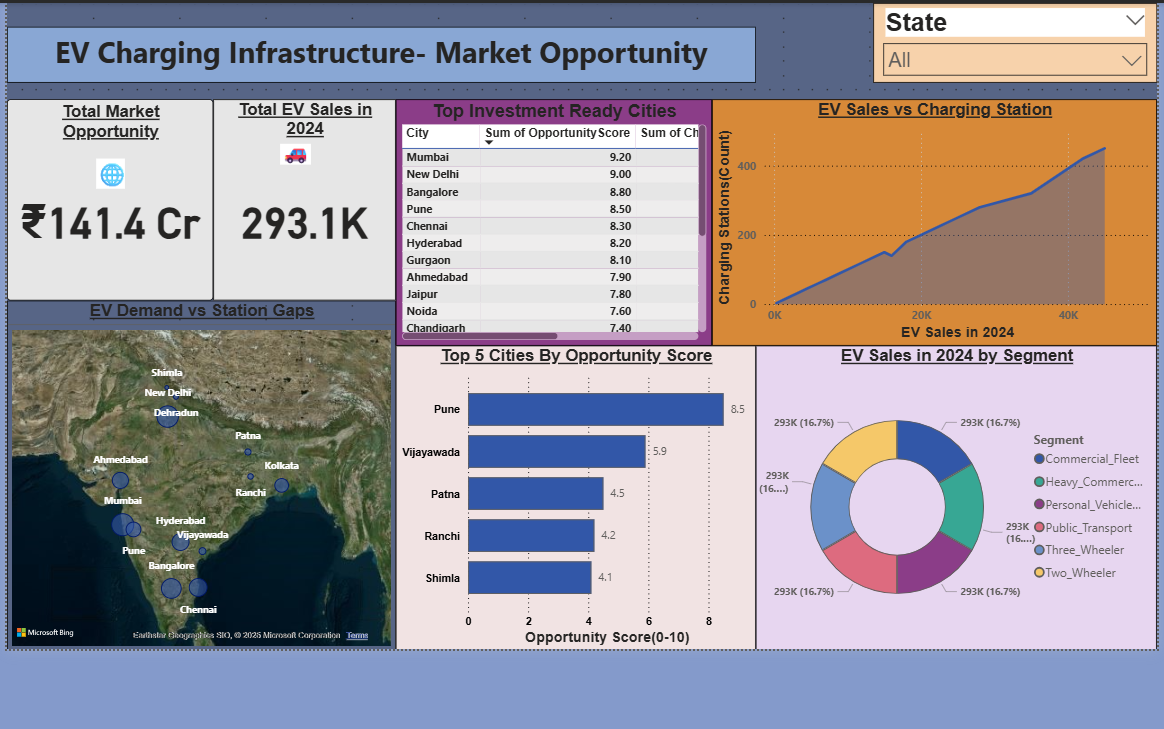

This screenshot's page, from the dashboard's own definition file:
{"tool":"powerbi","page":{"name":"Market Opportunity","canvas":[1280,720],"ordinal":0},"visuals":[{"type":"map","title":"EV Demand vs Station Gaps","fields":{"Category":["MarketOppTbl.City"],"Size":["Sum(MarketOppTbl.EVSales2024)"]},"box":[0,331.1,432.7,389.6],"z":0},{"type":"clusteredBarChart","title":"Top 5 Cities By Opportunity Score","fields":{"Category":["MarketOppTbl.City"],"Y":["Sum(MarketOppTbl.OpportunityScore)"]},"box":[432.7,381.2,400.7,339.5],"z":1000},{"type":"card","title":"Total Market Opportunity","fields":{"Values":["MarketOppTbl.MarketOpportunityFormatted"]},"box":[0,107.1,229.6,224],"z":2000},{"type":"slicer","fields":{"Values":["MarketOppTbl.State"]},"box":[964.2,0,315.8,89],"z":3000},{"type":"donutChart","title":"EV Sales in 2024 by Segment","fields":{"Category":["SegmentsTbl.Segment"],"Y":["Sum(MarketOppTbl.EVSales2024)"]},"box":[833.4,381.2,446.6,339.5],"z":4000},{"type":"stackedAreaChart","title":"EV Sales vs Charging Station","fields":{"Category":["MarketOppTbl.EVSales2024"],"Y":["Sum(MarketOppTbl.ChargingStationsExisting)"]},"box":[784.7,107.1,495.3,274.1],"z":5000},{"type":"tableEx","title":"Top Investment Ready Cities","fields":{"Values":["MarketOppTbl.City","Sum(MarketOppTbl.OpportunityScore)","Sum(MarketOppTbl.ChargingStationsExisting)","Sum(MarketOppTbl.EVSales2024)"]},"box":[432.7,107.1,352,274.1],"z":6000},{"type":"card","title":"Total EV Sales in 2024","fields":{"Values":["MarketOppTbl.EVSalesFormatted"]},"box":[229.6,107.1,203.1,224],"z":7000},{"type":"textbox","box":[0,26.4,833.4,62.6],"z":8000},{"type":"image","box":[90.4,168.3,50.1,43.1],"z":9000},{"type":"image","box":[299.1,144.7,44.5,47.3],"z":10000}]}

Visuals, with their boxes in screenshot pixels (x1, y1, x2, y2):
"EV Demand vs Station Gaps" map: <bbox>6, 297, 394, 646</bbox>
"Top 5 Cities By Opportunity Score" clusteredBarChart: <bbox>394, 342, 753, 646</bbox>
"Total Market Opportunity" card: <bbox>6, 96, 212, 297</bbox>
slicer - MarketOppTbl.State: <bbox>871, 0, 1154, 80</bbox>
"EV Sales in 2024 by Segment" donutChart: <bbox>753, 342, 1154, 646</bbox>
"EV Sales vs Charging Station" stackedAreaChart: <bbox>710, 96, 1154, 342</bbox>
"Top Investment Ready Cities" tableEx: <bbox>394, 96, 710, 342</bbox>
"Total EV Sales in 2024" card: <bbox>212, 96, 394, 297</bbox>
textbox: <bbox>6, 24, 753, 80</bbox>
image: <bbox>87, 151, 132, 190</bbox>
image: <bbox>274, 130, 314, 172</bbox>
